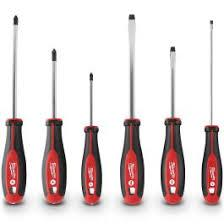screwdriver: (117, 12, 145, 205), (0, 12, 26, 204), (199, 18, 223, 206), (158, 44, 186, 205), (39, 47, 67, 205), (79, 71, 103, 205)
